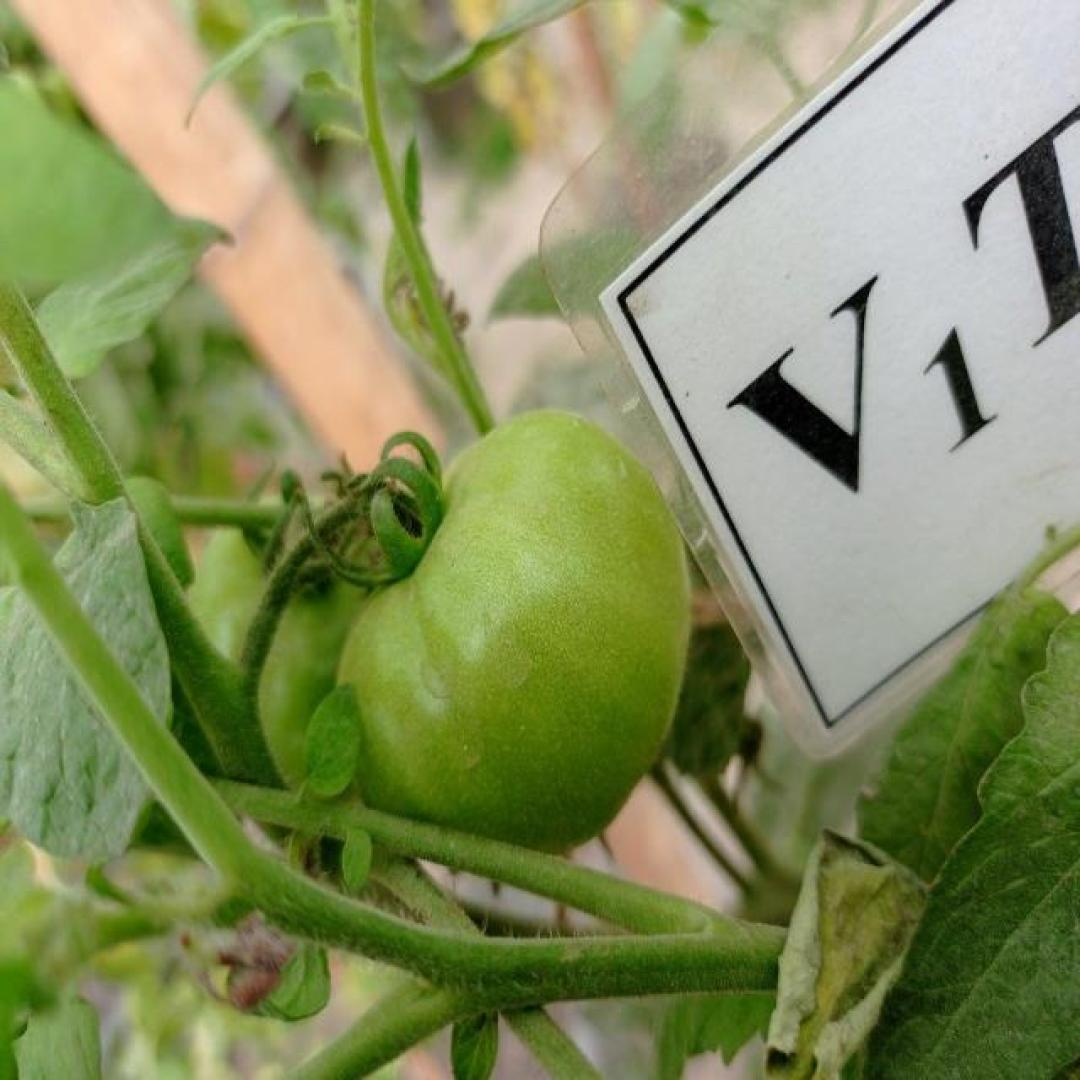mentah: (334, 410, 695, 867)
